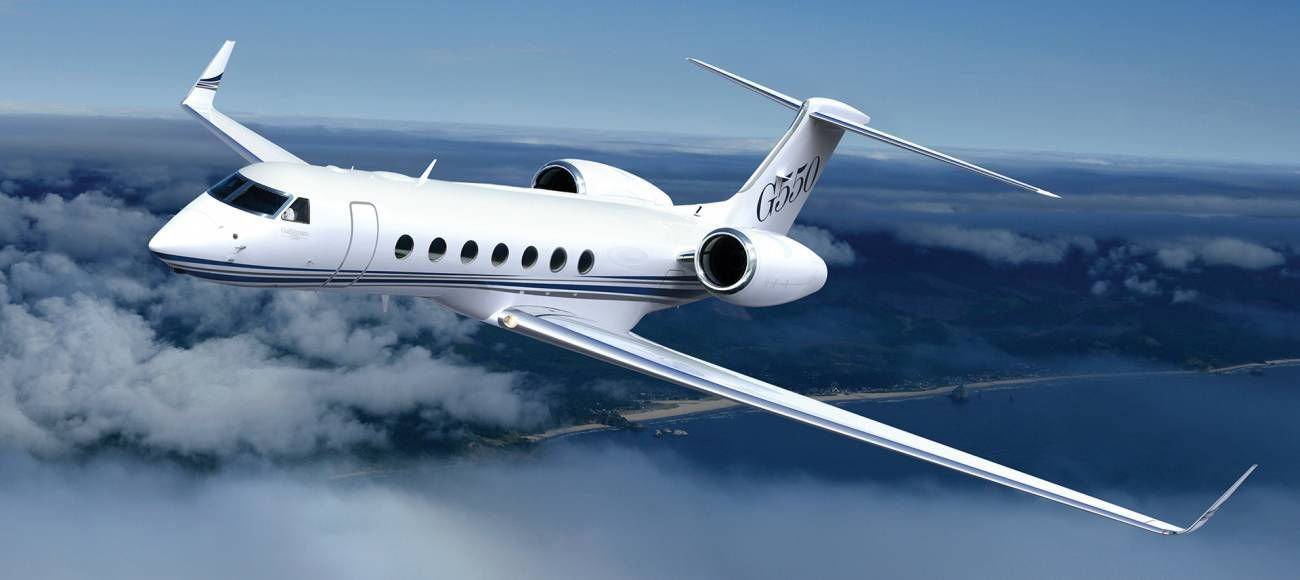Aeronef_commercial: (126, 25, 1265, 551)
